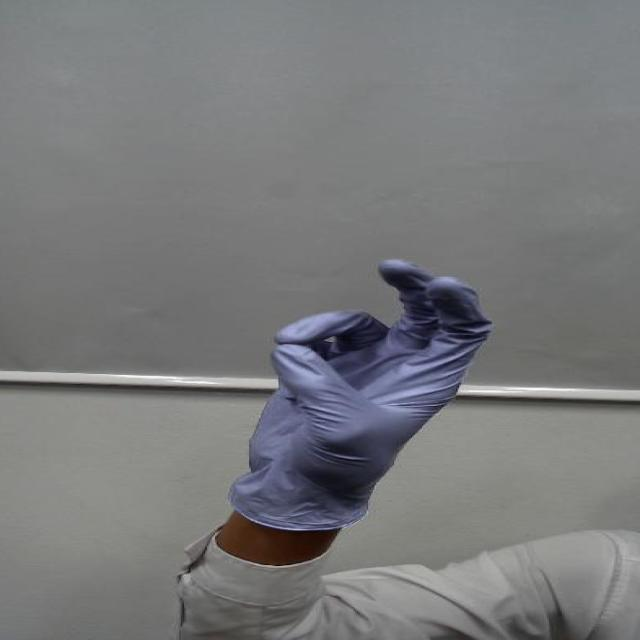glove: (229, 251, 504, 473)
